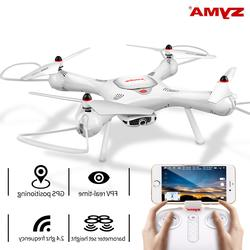drone: (1, 42, 250, 163)
